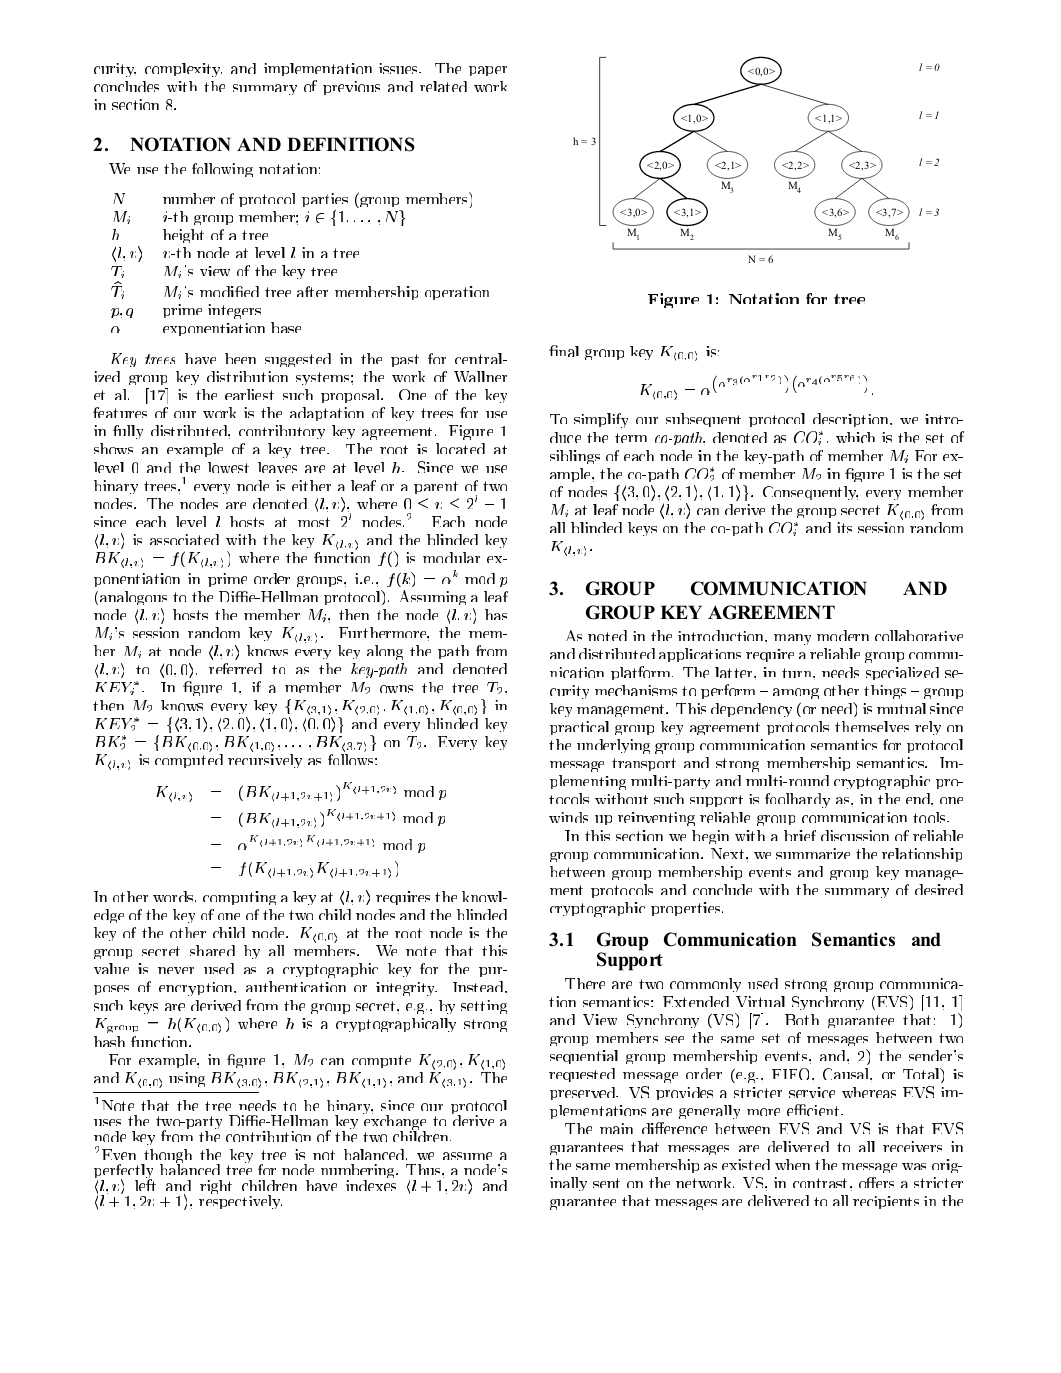figure: (573, 56, 940, 262)
formula: (156, 781, 445, 802), (640, 374, 872, 400), (211, 808, 444, 828), (211, 834, 424, 853), (211, 860, 397, 878), (551, 541, 591, 556)
